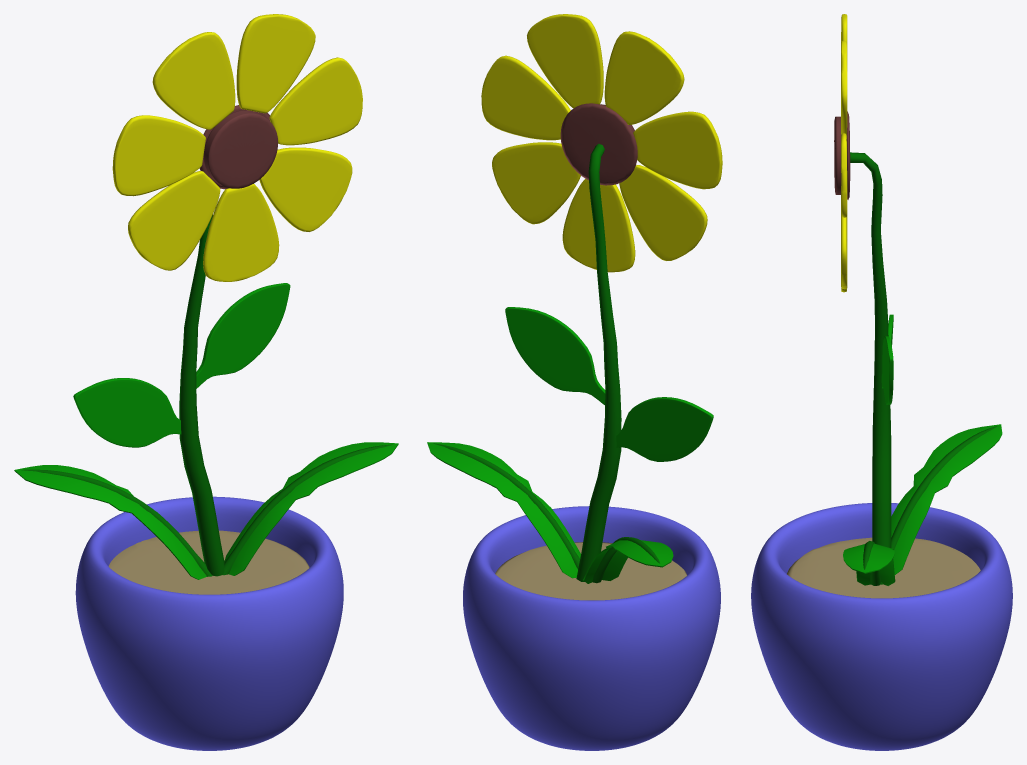
Rendered from sunflower.fbx.
3 views of the same model, side by side, from view 1: azimuth 30°, elevation 25°; view 2: azimuth 150°, elevation 25°; view 3: azimuth 270°, elevation 25° (orthographic). The views are drawn at different scales.
Parts seen in each view (by area): view 1: polySurface52; view 2: polySurface52; view 3: polySurface52.
Part boxes in pixels (x1,y1,x2,y2): polySurface52: (14, 14, 398, 750); polySurface52: (427, 14, 722, 750); polySurface52: (751, 14, 1012, 750).
Bounding box in the file's own units: 2.86 × 6.27 × 2.12.
